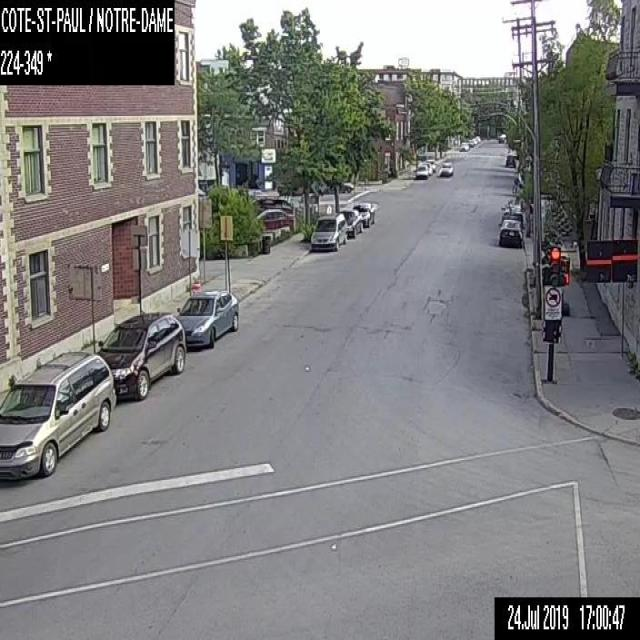vehicle: (0, 352, 116, 480), (96, 311, 185, 400), (175, 288, 239, 349), (310, 212, 346, 249), (255, 208, 293, 229), (498, 218, 524, 246), (339, 209, 362, 237), (251, 197, 292, 210), (352, 203, 374, 226), (500, 203, 522, 221), (414, 164, 428, 179), (438, 162, 452, 176), (504, 153, 516, 167), (339, 181, 354, 192), (422, 162, 432, 174), (426, 159, 436, 170), (459, 142, 468, 150), (468, 139, 473, 146), (475, 136, 480, 142), (471, 138, 476, 144)
